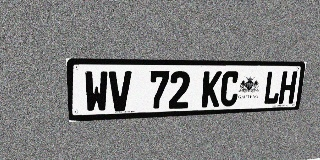2: (169, 71, 190, 109)
7: (148, 71, 170, 110)
C: (219, 71, 240, 107)
H: (278, 71, 298, 104)
K: (201, 71, 222, 107)
L: (263, 71, 282, 105)
V: (109, 71, 132, 112)
W: (84, 71, 108, 113)
